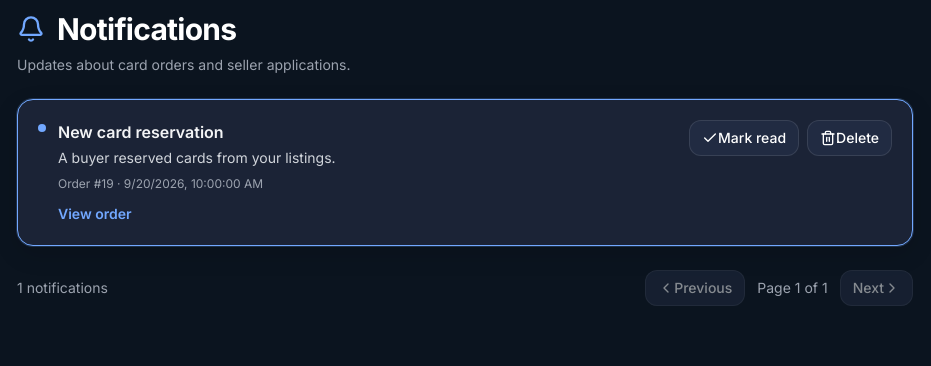
Test: NotificationsPage › deletes a notification and refreshes the page from the backend
The width and height of the screenshot is (931, 366).
What coordinates should you click on to do the following:
click the button with aria-label "Delete New card reservation"
I would click on:
 (850, 138)
Its box is [807,120,892,156].
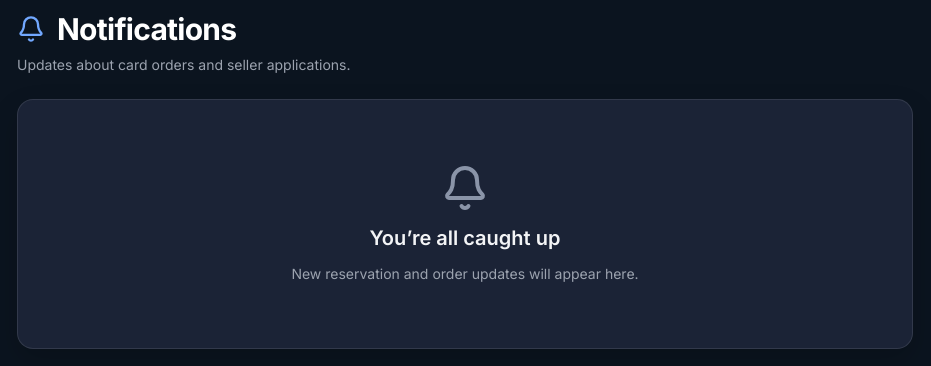
Expected: the heading "You’re all caught up" is shown, [370,224,560,252]
